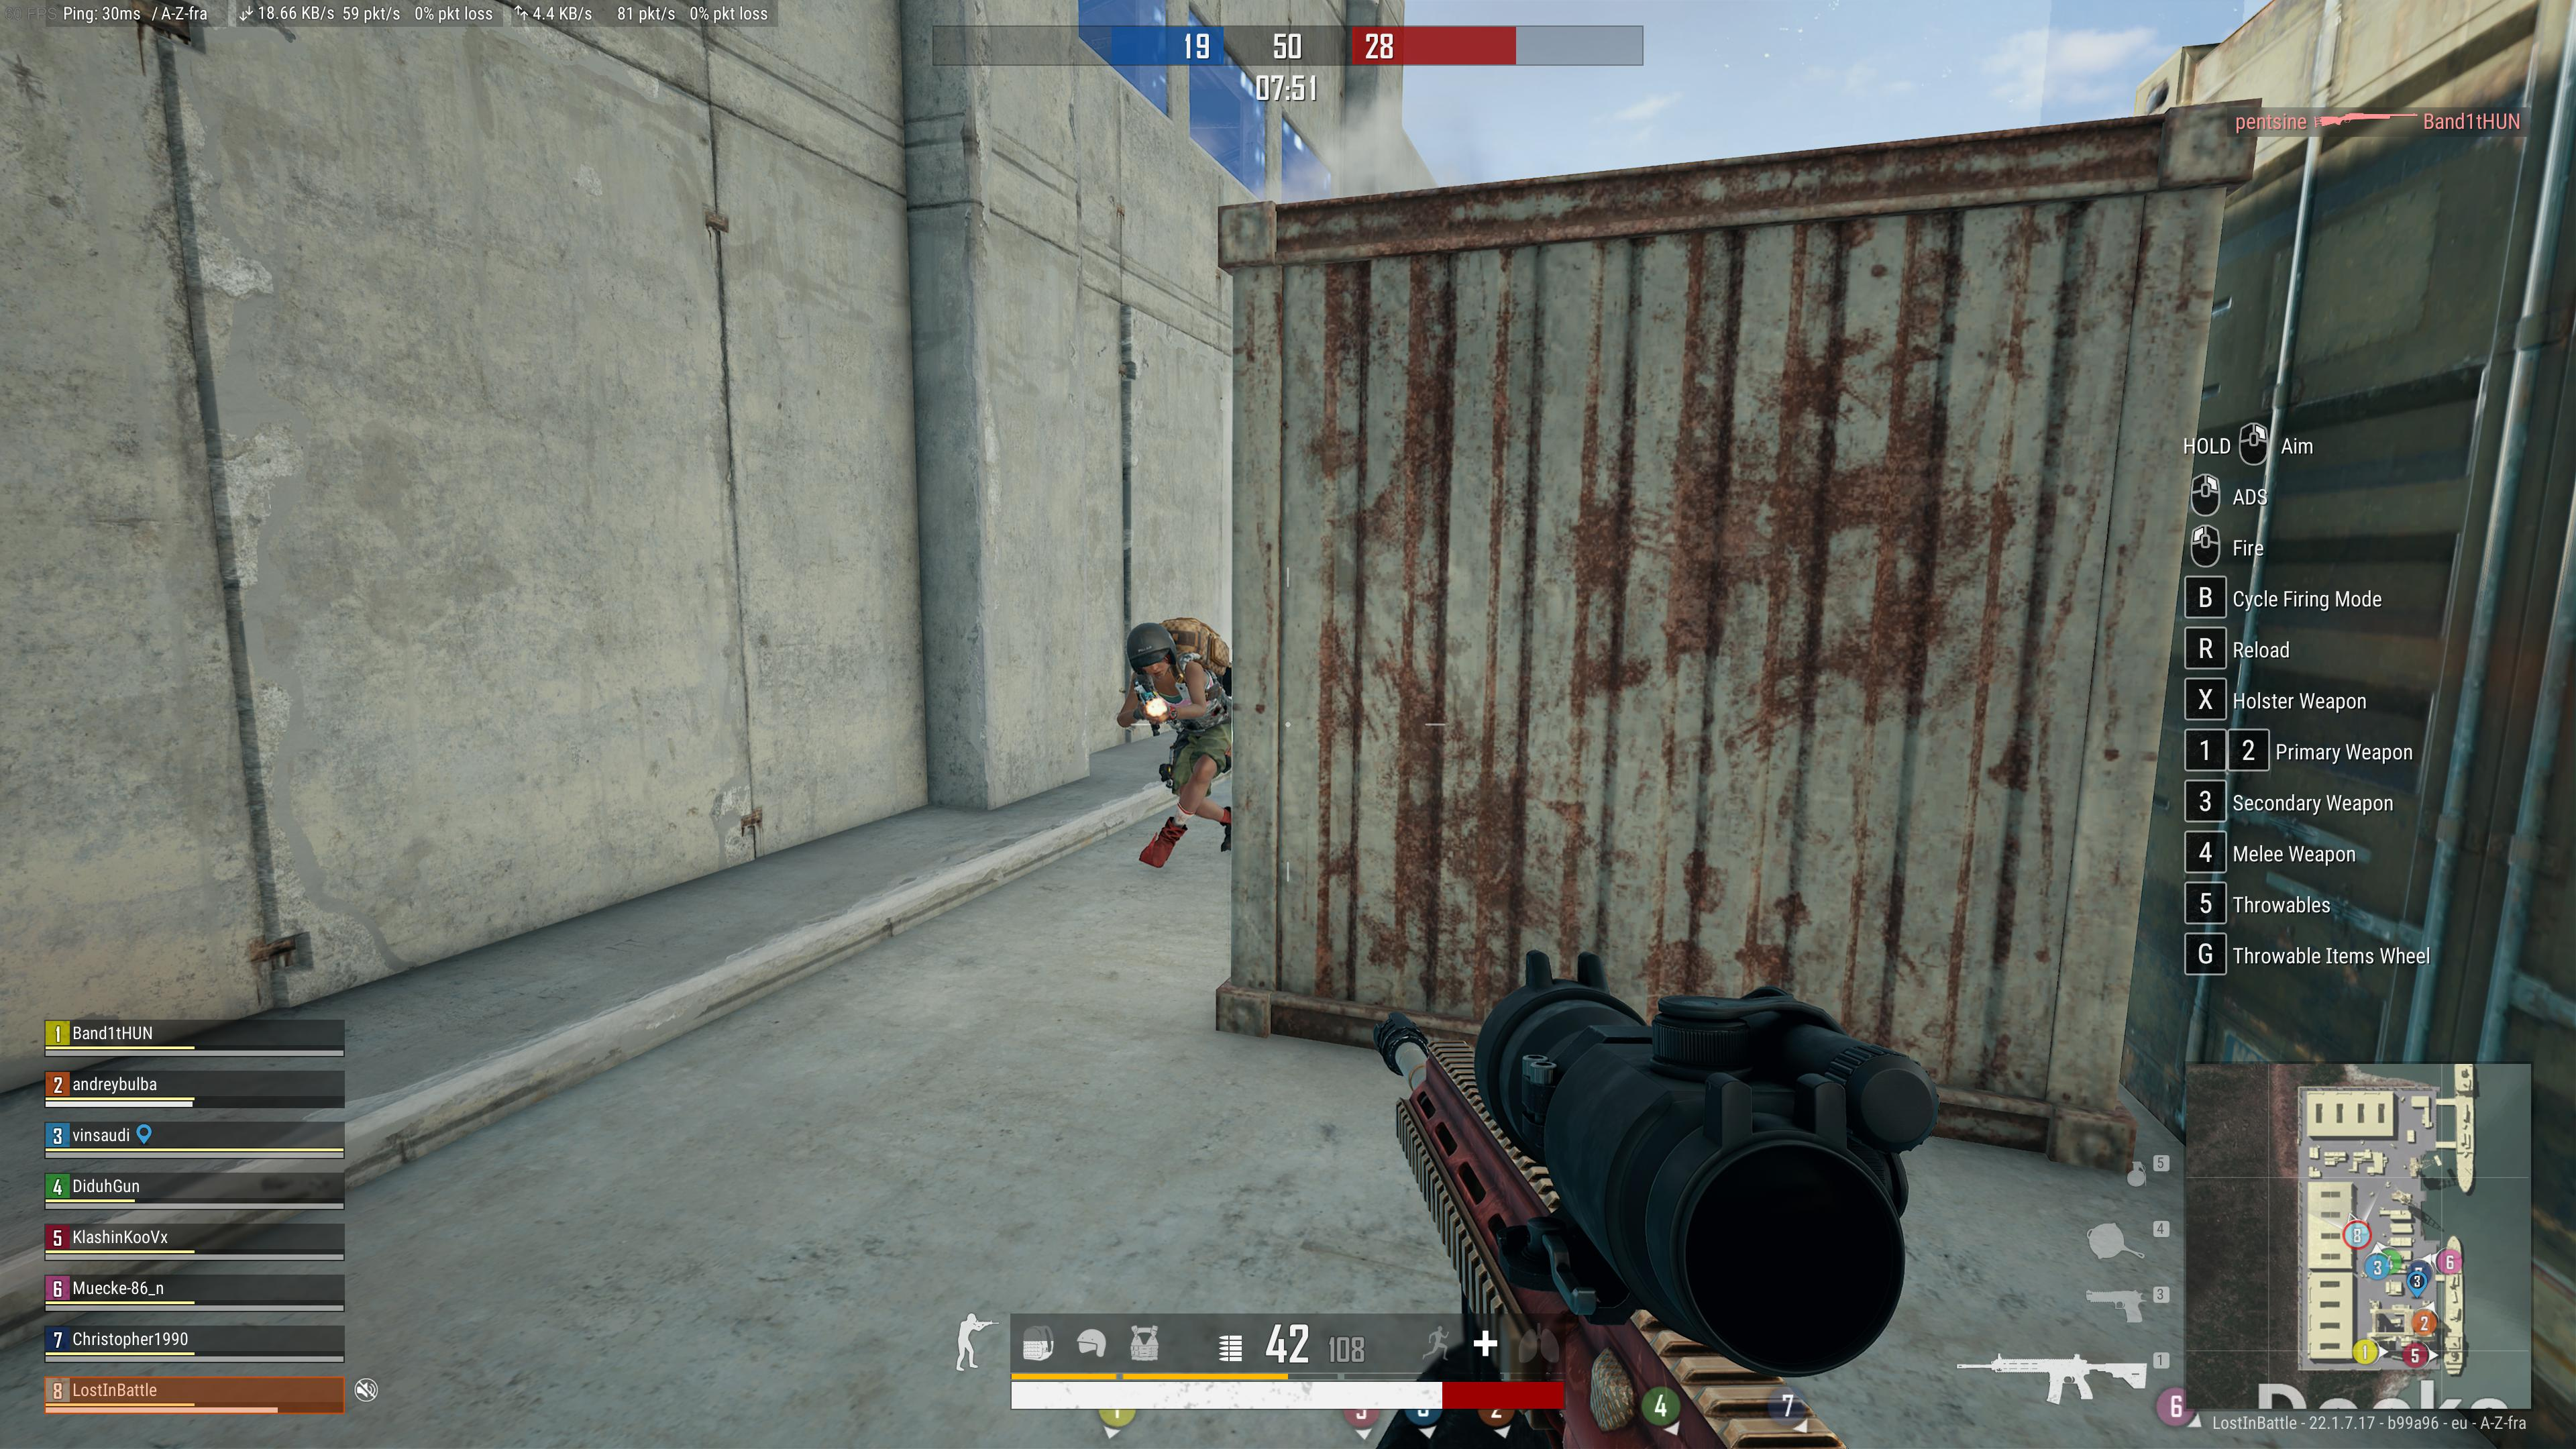enemy: (1113, 619, 1237, 869)
enemy_head: (1125, 621, 1178, 681)
